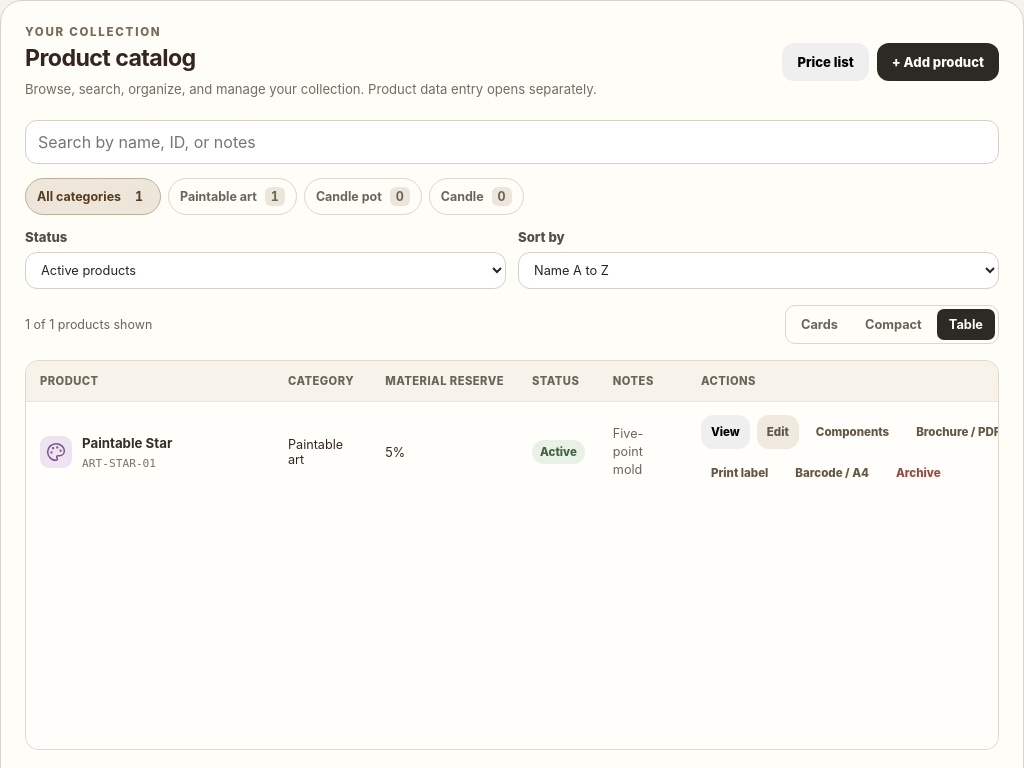
it: Product catalog / editor separation › keeps the collection as a catalog-only view until Add product is requested
The width and height of the screenshot is (1024, 768).
What coordinates should you click on to do the following:
click the button "+ Add product"
I would click on:
 (938, 62)
Its box is [877,43,999,81].
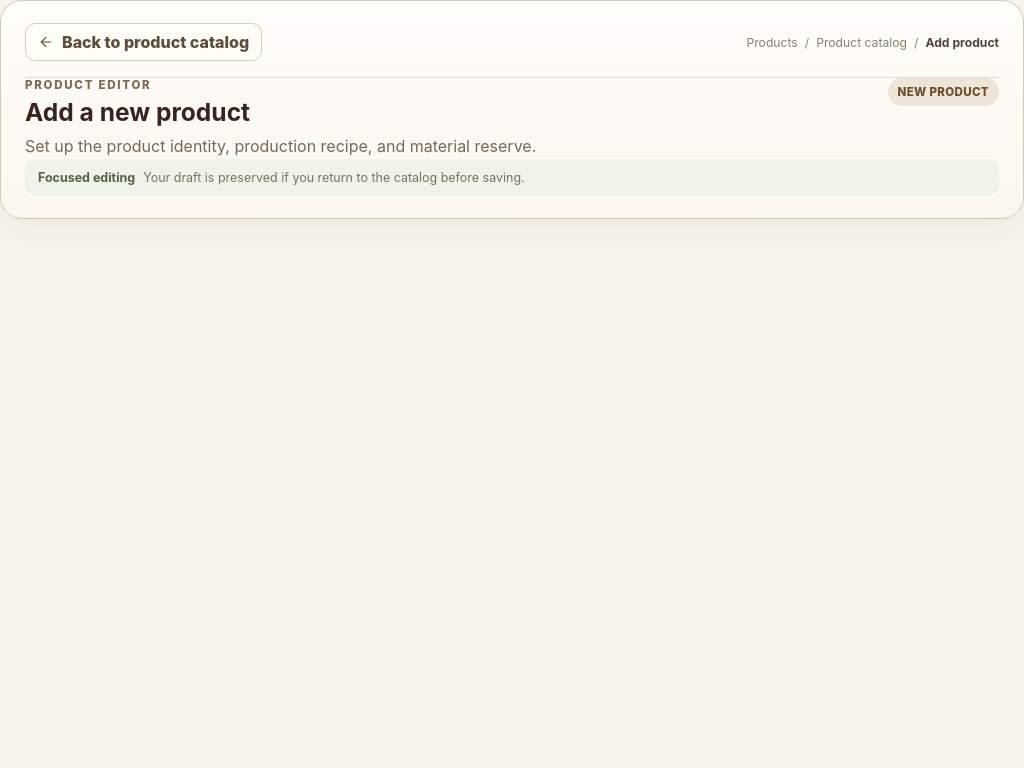
Now the element named "Product editor navigation" is shown, box [25,23,999,196]
Now the element named "Product editor navigation" shows "Add a new product", box [25,97,250,127]
Now the element named "Product editor location" shows "Products", box [746,34,798,50]
